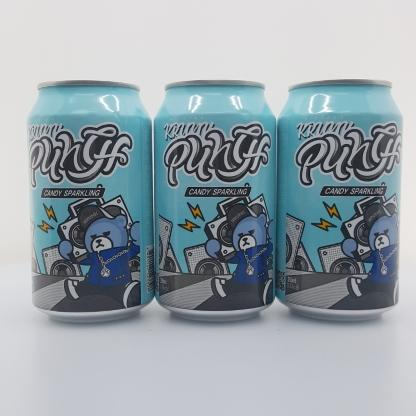-----------------350ML: (27, 79, 155, 323), (275, 78, 402, 321), (154, 79, 276, 322)
